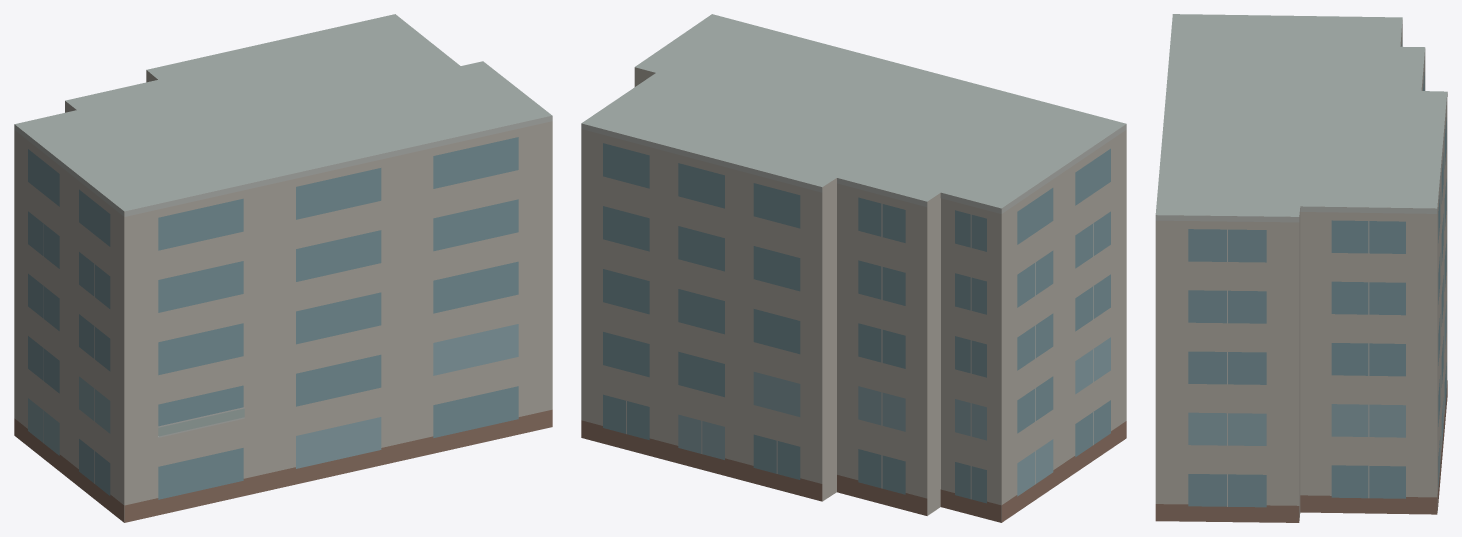
The model's file is survey-upis-32653976.glb.
The picture shows the model from 3 angles, left to right: view 1: azimuth 30°, elevation 25°; view 2: azimuth 150°, elevation 25°; view 3: azimuth 270°, elevation 25°; orthographic projection. The views are drawn at different scales.
Parts seen in each view (by area): view 1: survey-upis-32653976.tmp; view 2: survey-upis-32653976.tmp; view 3: survey-upis-32653976.tmp.
Part boxes in pixels (x1=…): survey-upis-32653976.tmp: x1=14, y1=14, x2=552, y2=522; survey-upis-32653976.tmp: x1=581, y1=14, x2=1126, y2=522; survey-upis-32653976.tmp: x1=1155, y1=14, x2=1447, y2=522.
Size of the model in its own units: 19.35 by 13.6 by 11.76.
